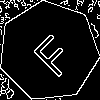F: (23, 26, 78, 80)
